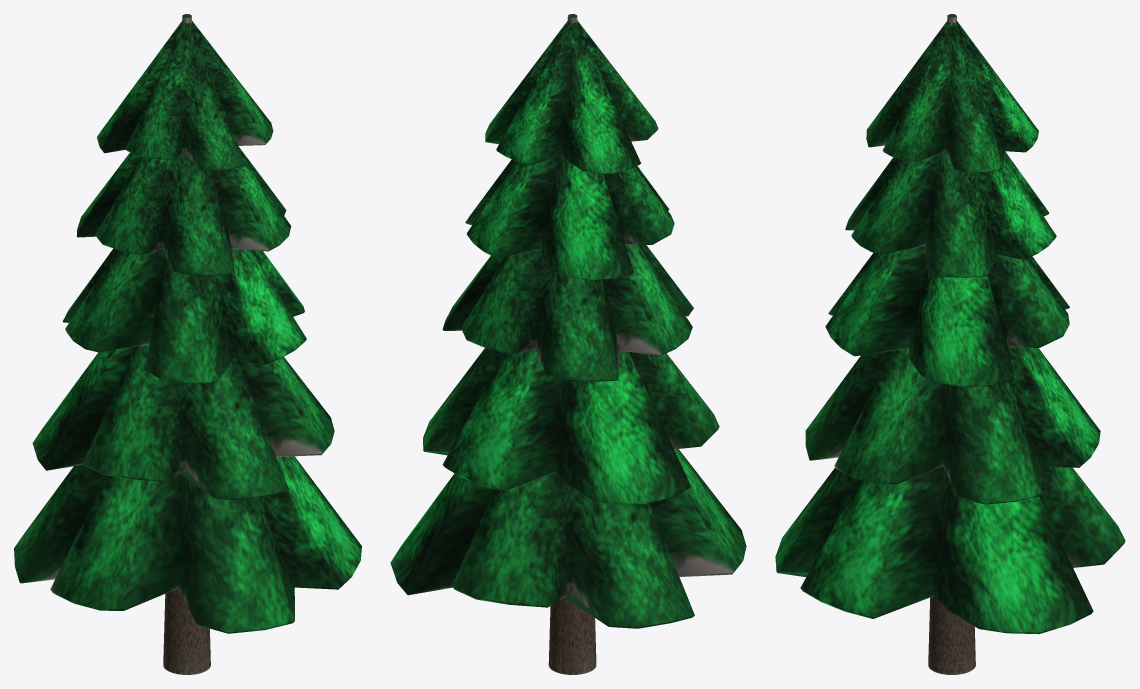
Rendered from tree.fbx.
The picture shows the model from 3 angles, left to right: view 1: azimuth 30°, elevation 25°; view 2: azimuth 150°, elevation 25°; view 3: azimuth 270°, elevation 25°; orthographic projection.
Visible parts, largest first — view 1: Cone.005, Cone.001, Cone.002, Cone.003, Cone.004, Cone; view 2: Cone.005, Cone.001, Cone.002, Cone.003, Cone.004, Cone; view 3: Cone.005, Cone.001, Cone.002, Cone.003, Cone.004, Cone.
Part boxes in pixels (x1,y1,x2,y2): Cone.005: (14, 456, 361, 633); Cone.001: (32, 344, 334, 500); Cone.002: (62, 248, 306, 383); Cone.003: (76, 147, 291, 275); Cone.004: (97, 14, 273, 171); Cone: (163, 14, 210, 674); Cone.005: (390, 449, 746, 628); Cone.001: (423, 348, 719, 505); Cone.002: (442, 244, 693, 381); Cone.003: (465, 154, 674, 280); Cone.004: (485, 14, 658, 173); Cone: (548, 14, 596, 674); Cone.005: (775, 466, 1125, 634); Cone.001: (805, 346, 1100, 504); Cone.002: (825, 246, 1069, 387); Cone.003: (845, 151, 1056, 277); Cone.004: (866, 14, 1038, 173); Cone: (928, 14, 975, 674).
Bounding box in the file's own units: 709 × 1504 × 734.
